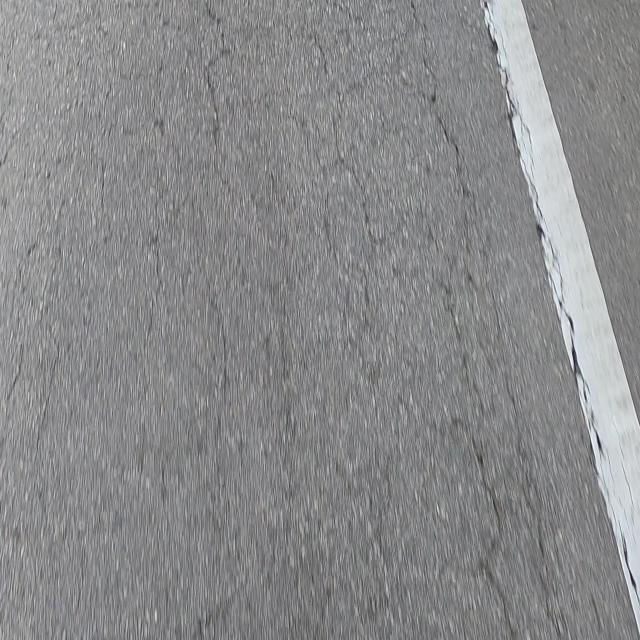Retak-Memanjang: (475, 1, 600, 452)
